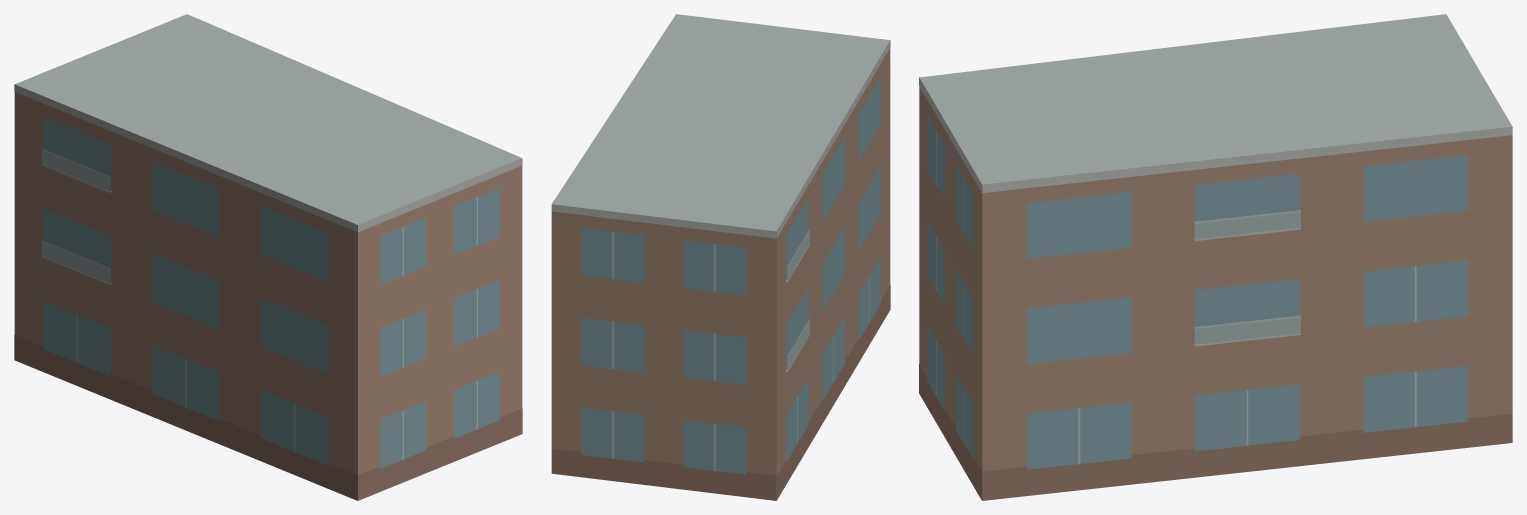
Rendered from survey-upis-32569394.glb.
3 renders of one model, left to right at view 1: azimuth 30°, elevation 25°; view 2: azimuth 150°, elevation 25°; view 3: azimuth 270°, elevation 25°, orthographic. The views are drawn at different scales.
Visible parts, largest first — view 1: survey-upis-32569394.tmp; view 2: survey-upis-32569394.tmp; view 3: survey-upis-32569394.tmp.
Part boxes in pixels (box(x1,y1,x2,y2)): survey-upis-32569394.tmp: box(14, 14, 522, 500); survey-upis-32569394.tmp: box(551, 14, 890, 500); survey-upis-32569394.tmp: box(919, 14, 1512, 500).
Size of the model in its own units: 10.61 by 9.15 by 15.58.
